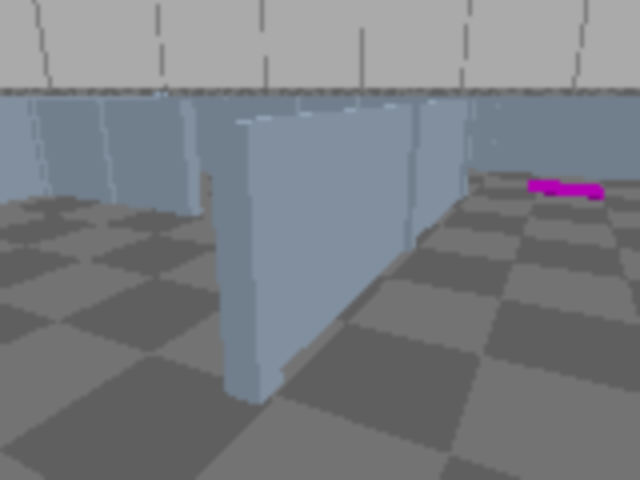goal_zone: (526, 180, 606, 200)
